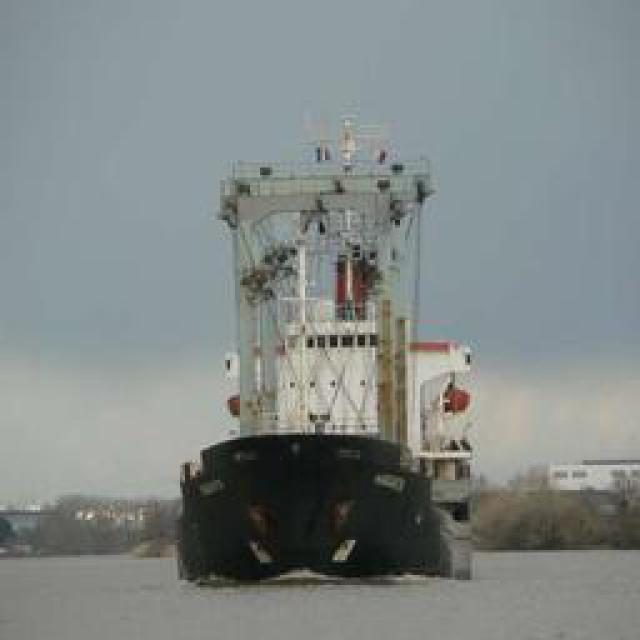Ship: (159, 98, 498, 595)
